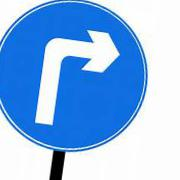right: (1, 1, 147, 150)
